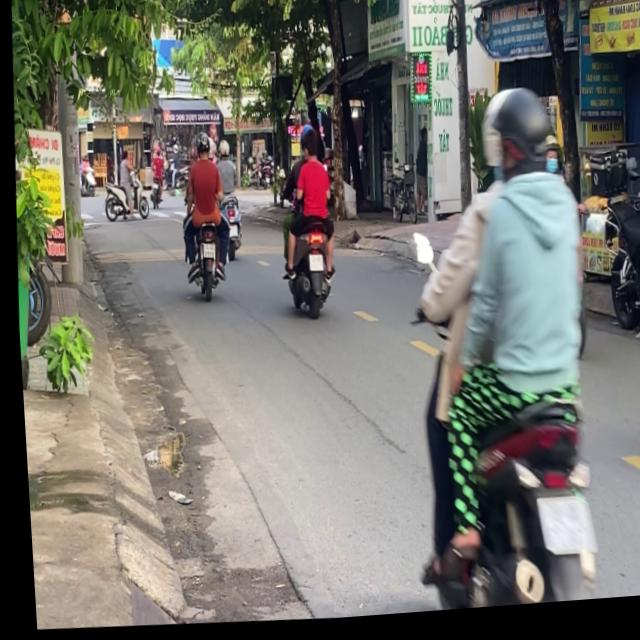helmet: (489, 88, 554, 192), (476, 92, 514, 189), (193, 132, 210, 160)
licenseplate: (386, 80, 616, 618), (270, 124, 342, 324), (172, 130, 232, 304)
motorcyclist: (297, 132, 319, 170)
nohelmet: (528, 501, 589, 563), (304, 259, 320, 276), (200, 245, 213, 260)
